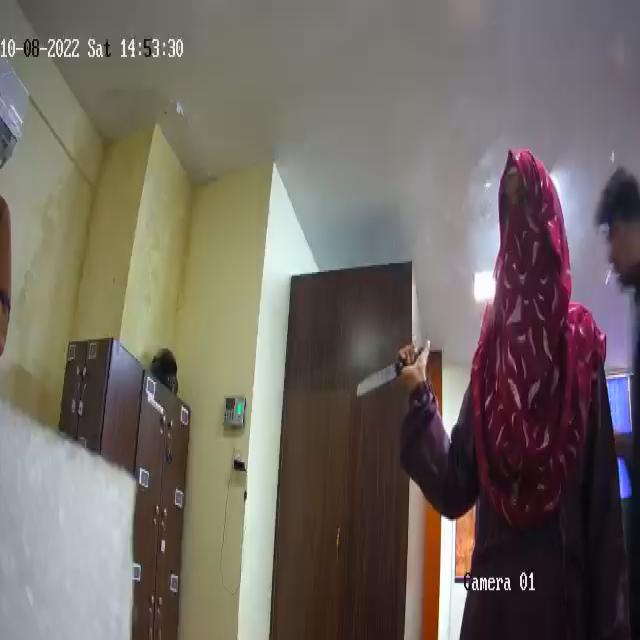weapon: (353, 341, 423, 407)
